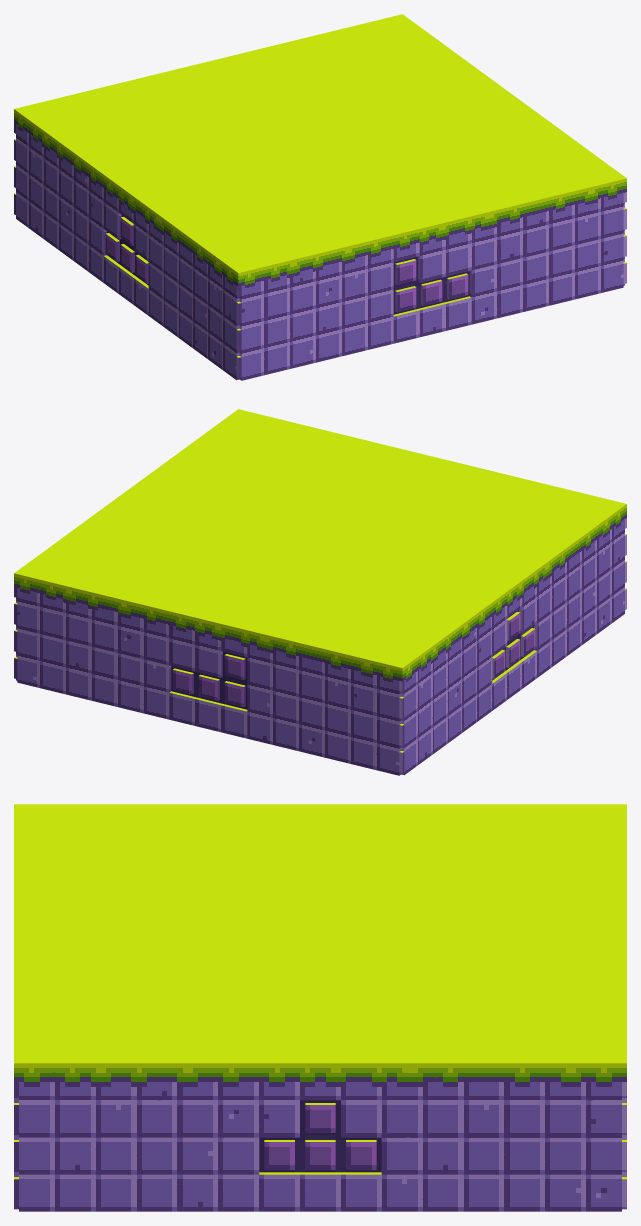
The model's file is tetris_puzzle_baseao.fezao.glb.
The picture shows the model from 3 angles, top to bottom: view 1: azimuth 30°, elevation 25°; view 2: azimuth 150°, elevation 25°; view 3: azimuth 270°, elevation 25°; orthographic projection. The views are drawn at different scales.
Parts seen in each view (by area): view 1: TETRIS_PUZZLE_BASEAO; view 2: TETRIS_PUZZLE_BASEAO; view 3: TETRIS_PUZZLE_BASEAO.
Part boxes in pixels (left/top/right/bottom): TETRIS_PUZZLE_BASEAO: left=14, top=14, right=626, bottom=380; TETRIS_PUZZLE_BASEAO: left=14, top=409, right=626, bottom=775; TETRIS_PUZZLE_BASEAO: left=14, top=804, right=626, bottom=1211.
Bounding box in the file's own units: 7.5 × 2 × 7.5.
1 material, 1 textured.
